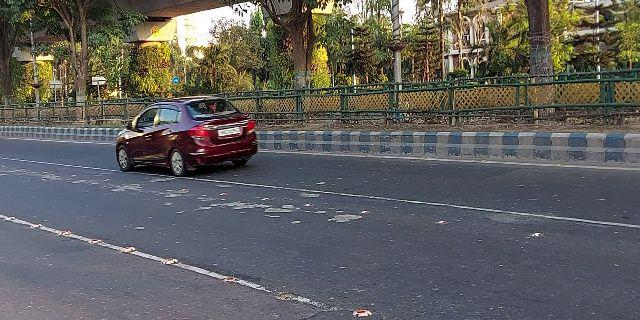Car: (113, 95, 261, 179)
